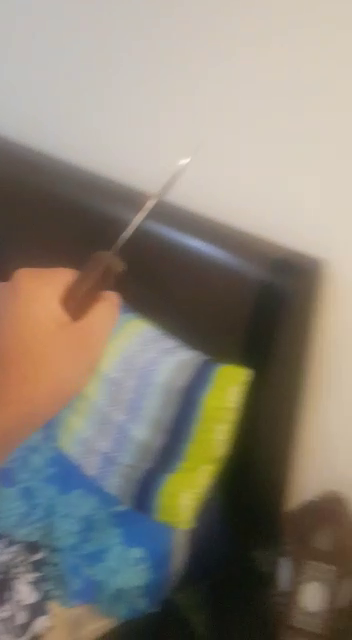knife: (5, 134, 206, 470)
